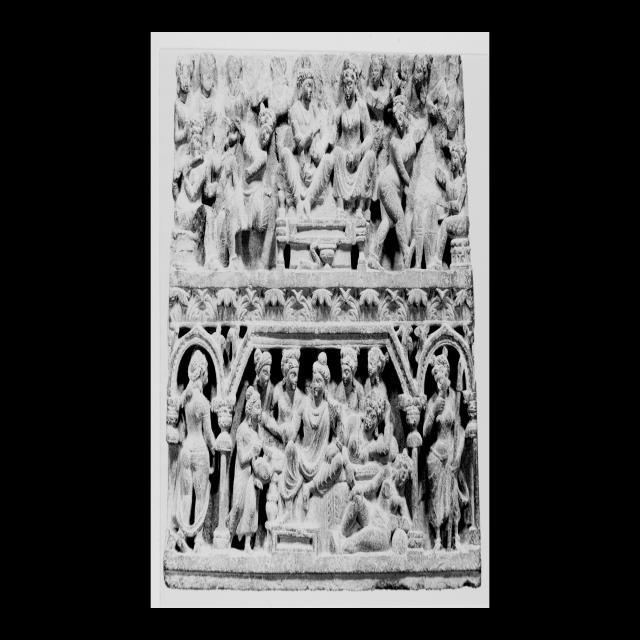buddha-sitting: (279, 351, 344, 521), (276, 60, 334, 220)
